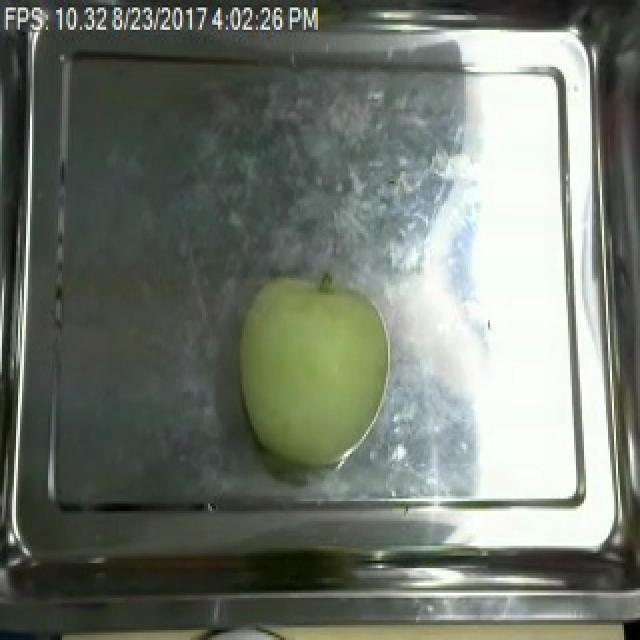50-_ripeness: (230, 264, 406, 486)
